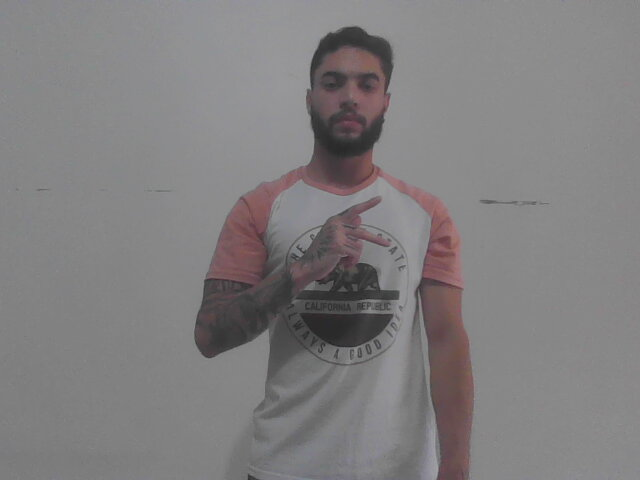k: (289, 193, 392, 299)
